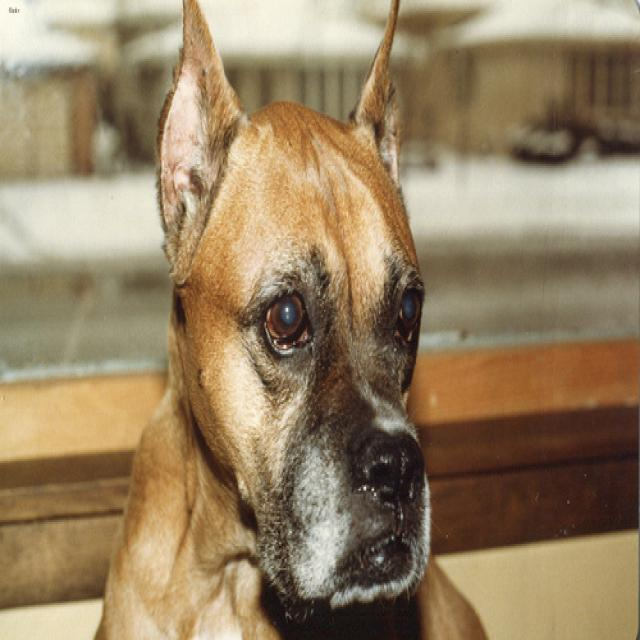dog-boxer: (86, 2, 498, 636)
